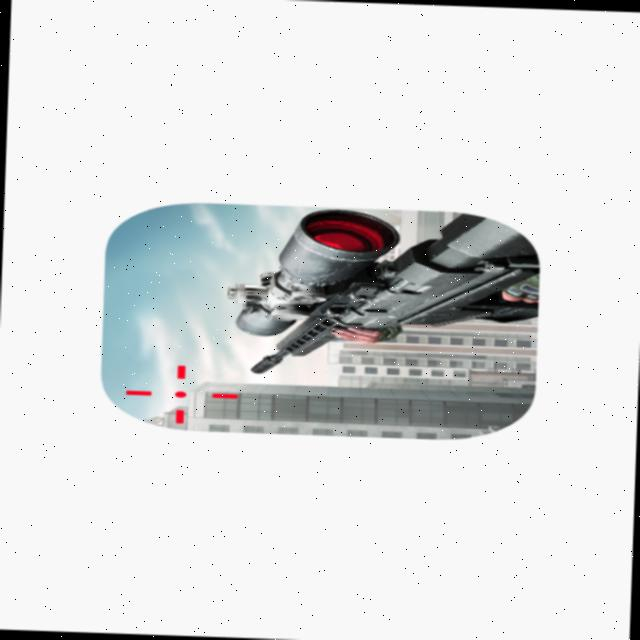Sniper: (229, 203, 539, 395)
